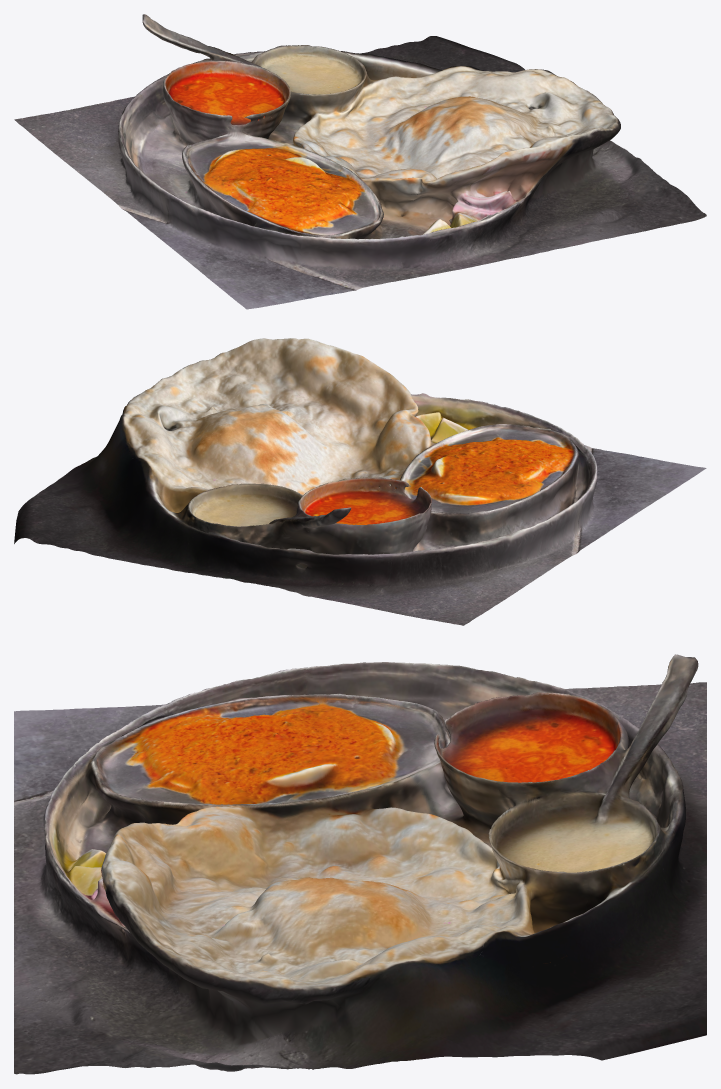
The model's file is egg_masala.glb.
3 views of the same model, one above another, from view 1: azimuth 30°, elevation 25°; view 2: azimuth 150°, elevation 25°; view 3: azimuth 270°, elevation 25° (orthographic). The views are drawn at different scales.
Parts seen in each view (by area): view 1: 3DModel; view 2: 3DModel; view 3: 3DModel.
Part boxes in pixels (x1,y1,x2,y2): 3DModel: [14, 14, 706, 309]; 3DModel: [14, 338, 706, 625]; 3DModel: [14, 654, 706, 1074].
Size of the model in its own units: 1.23 by 0.318 by 1.07.
1 material, 1 textured.
